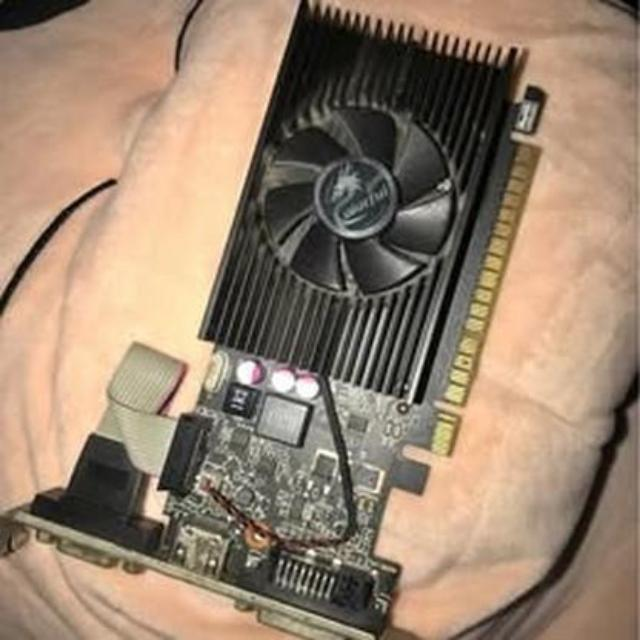GPU: (146, 0, 546, 640)
